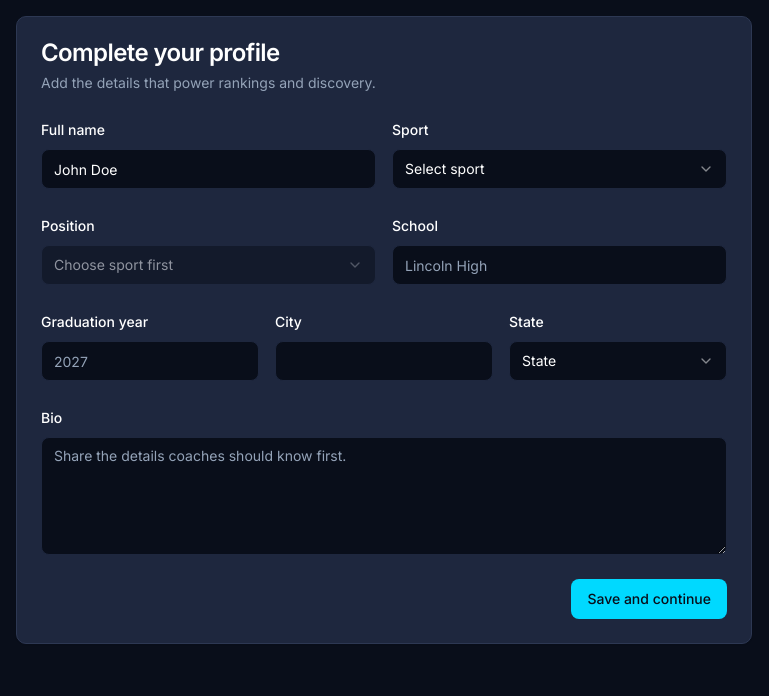
Test: ProfileCompletionForm › shows API errors inline
What coordinates should you click on to do the following:
click the button "Save and continue"
I would click on:
 (649, 599)
Its box is x1=571 y1=579 x2=727 y2=619.
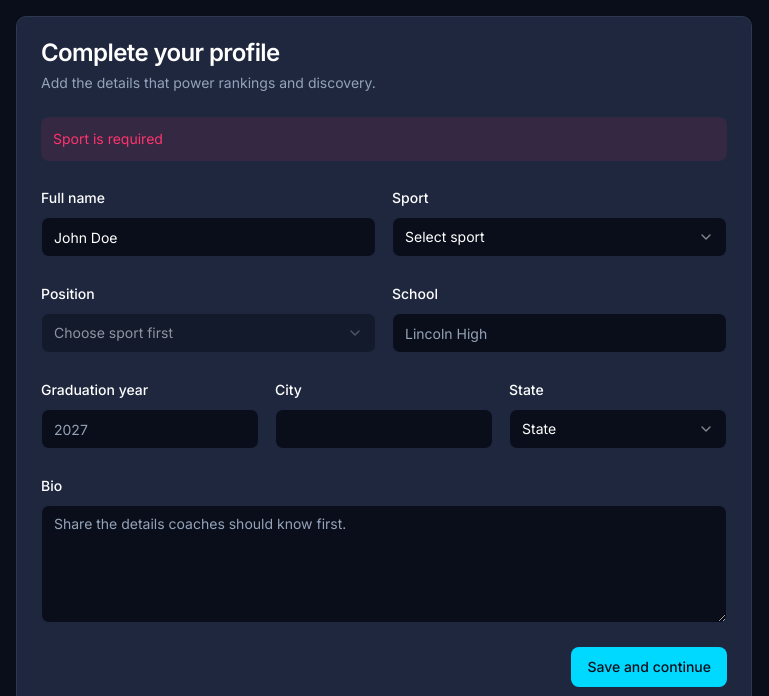
Result: the message reads "Sport is required" at x1=53 y1=130 x2=163 y2=147
